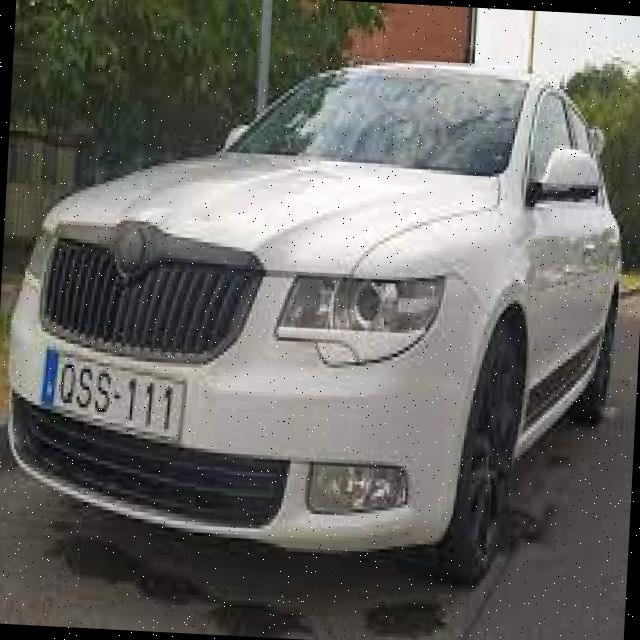licence: (36, 344, 192, 446)
